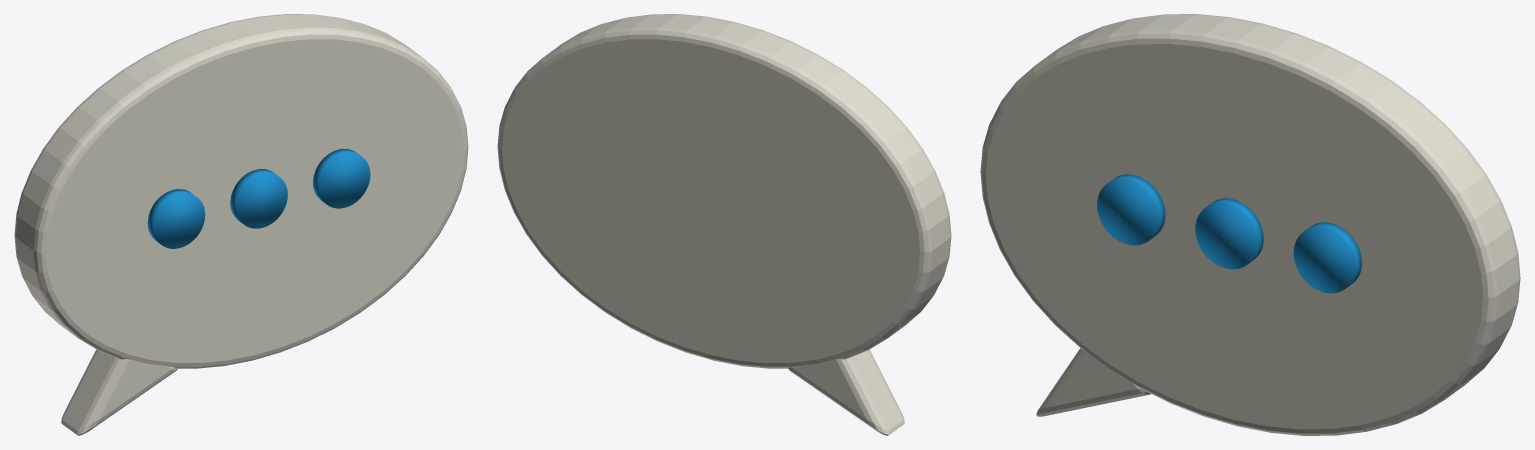
Rendered from speech_bubble.glb.
3 renders of one model, left to right at view 1: azimuth 30°, elevation 25°; view 2: azimuth 150°, elevation 25°; view 3: azimuth 330°, elevation 25°, orthographic. The views are drawn at different scales.
Parts seen in each view (by area): view 1: speech_bubble; view 2: speech_bubble; view 3: speech_bubble.
Boxes of the visible parts, x1,y1,x2,y2 form: speech_bubble: [14, 14, 468, 435]; speech_bubble: [497, 14, 951, 435]; speech_bubble: [980, 14, 1520, 435].
Size of the model in its own units: 0.84 by 0.6648 by 0.114.
